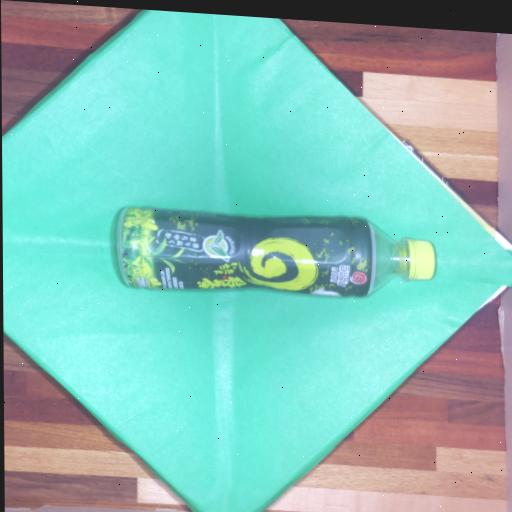bottle: (118, 208, 434, 296)
